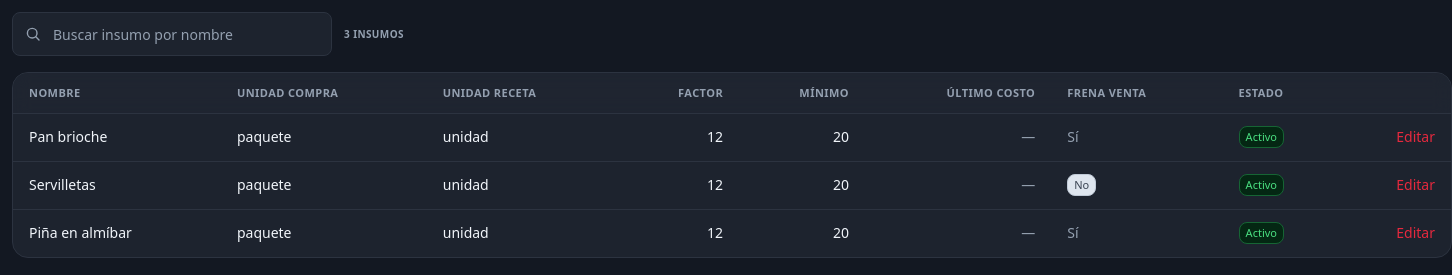
Test case: buscador de insumos › sin coincidencias NO dice que la lista está vacía
This screenshot has width=1452, height=275.
Type "zanahoria" into the search field labelled "Buscar insumo por nombre" at (172, 34), box [13,13,331,55]
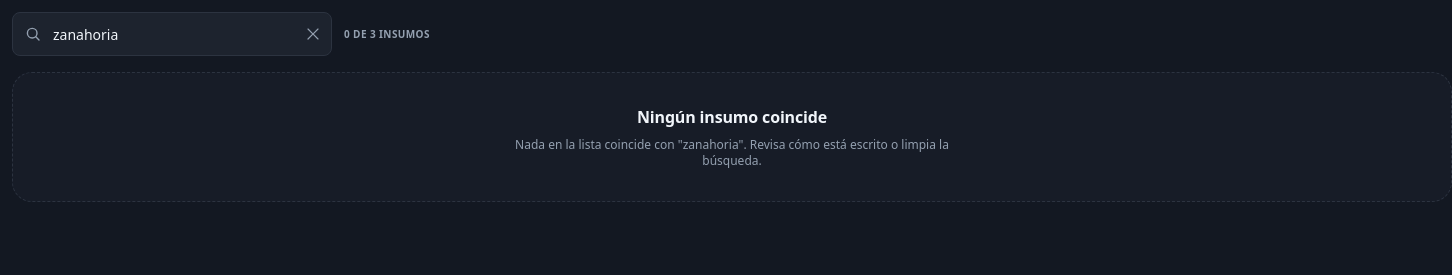
Now the heading "Ningún insumo coincide" is shown, box [637,105,827,129]
